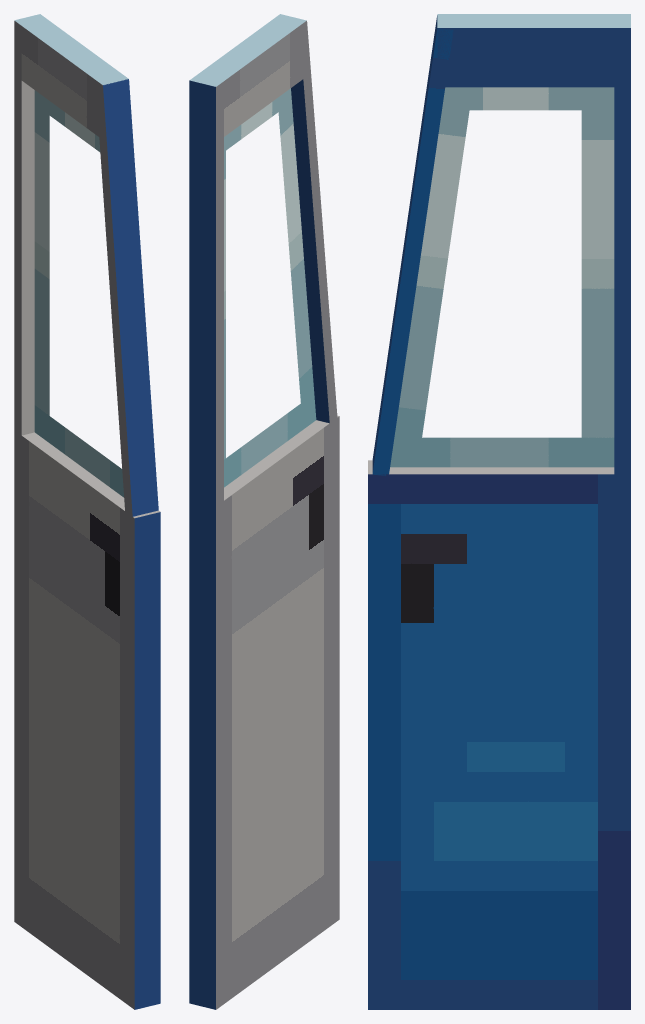
The model's file is df5_cabin_door_open.obj.
3 renders of one model, left to right at view 1: azimuth 30°, elevation 25°; view 2: azimuth 150°, elevation 25°; view 3: azimuth 270°, elevation 25°, orthographic. The views are drawn at different scales.
Parts seen in each view (by area): view 1: cube; view 2: cube; view 3: cube.
Boxes of the visible parts, left/top/right/bottom form: cube: left=14, top=14, right=160, bottom=1009; cube: left=189, top=14, right=339, bottom=1009; cube: left=368, top=14, right=630, bottom=1009.
Bounding box in the file's own units: 0.0625 × 2.06 × 0.5.
